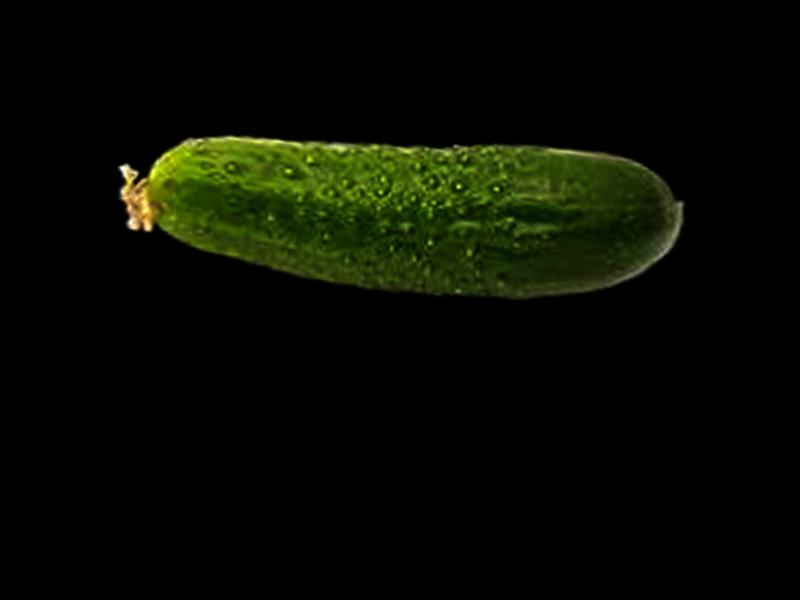Cucumber: (106, 90, 691, 330)
